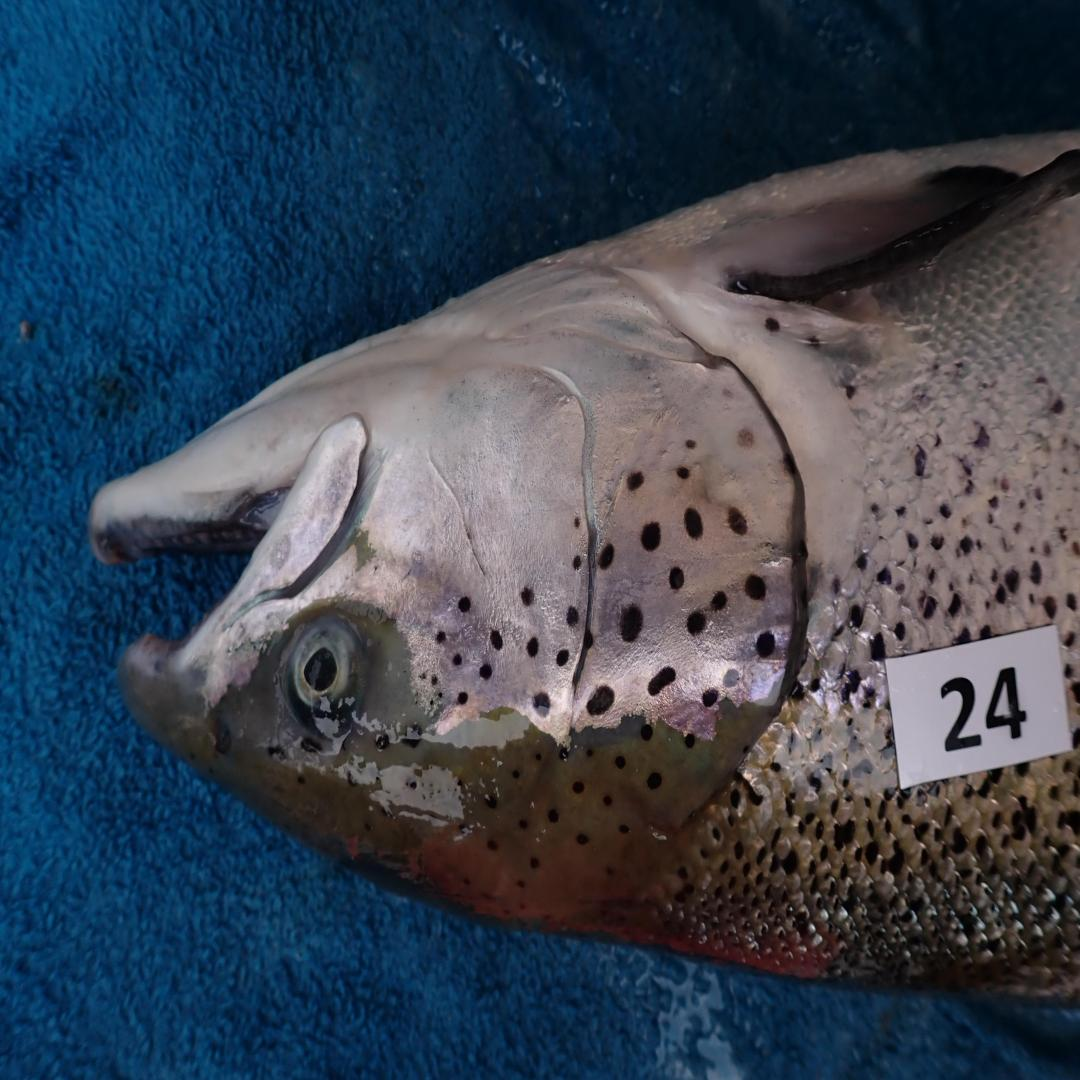spot: (620, 605, 643, 641), (586, 686, 614, 714), (648, 667, 675, 695), (686, 610, 707, 636), (641, 523, 660, 551), (728, 506, 747, 534), (683, 509, 702, 537), (745, 574, 766, 599), (755, 633, 774, 658), (599, 543, 614, 568), (534, 692, 551, 714), (669, 565, 683, 591), (582, 627, 595, 655), (702, 689, 719, 709), (737, 428, 754, 448), (711, 591, 728, 610), (521, 585, 534, 608), (626, 472, 643, 489), (489, 630, 502, 650), (724, 669, 738, 686), (557, 650, 570, 667), (527, 638, 538, 658), (567, 608, 578, 627), (458, 596, 470, 613), (479, 664, 491, 681), (572, 554, 582, 571), (416, 669, 428, 681), (677, 467, 690, 478), (437, 630, 447, 644), (458, 692, 468, 706), (430, 672, 439, 686), (454, 652, 462, 667), (686, 439, 696, 450), (574, 515, 580, 529)
